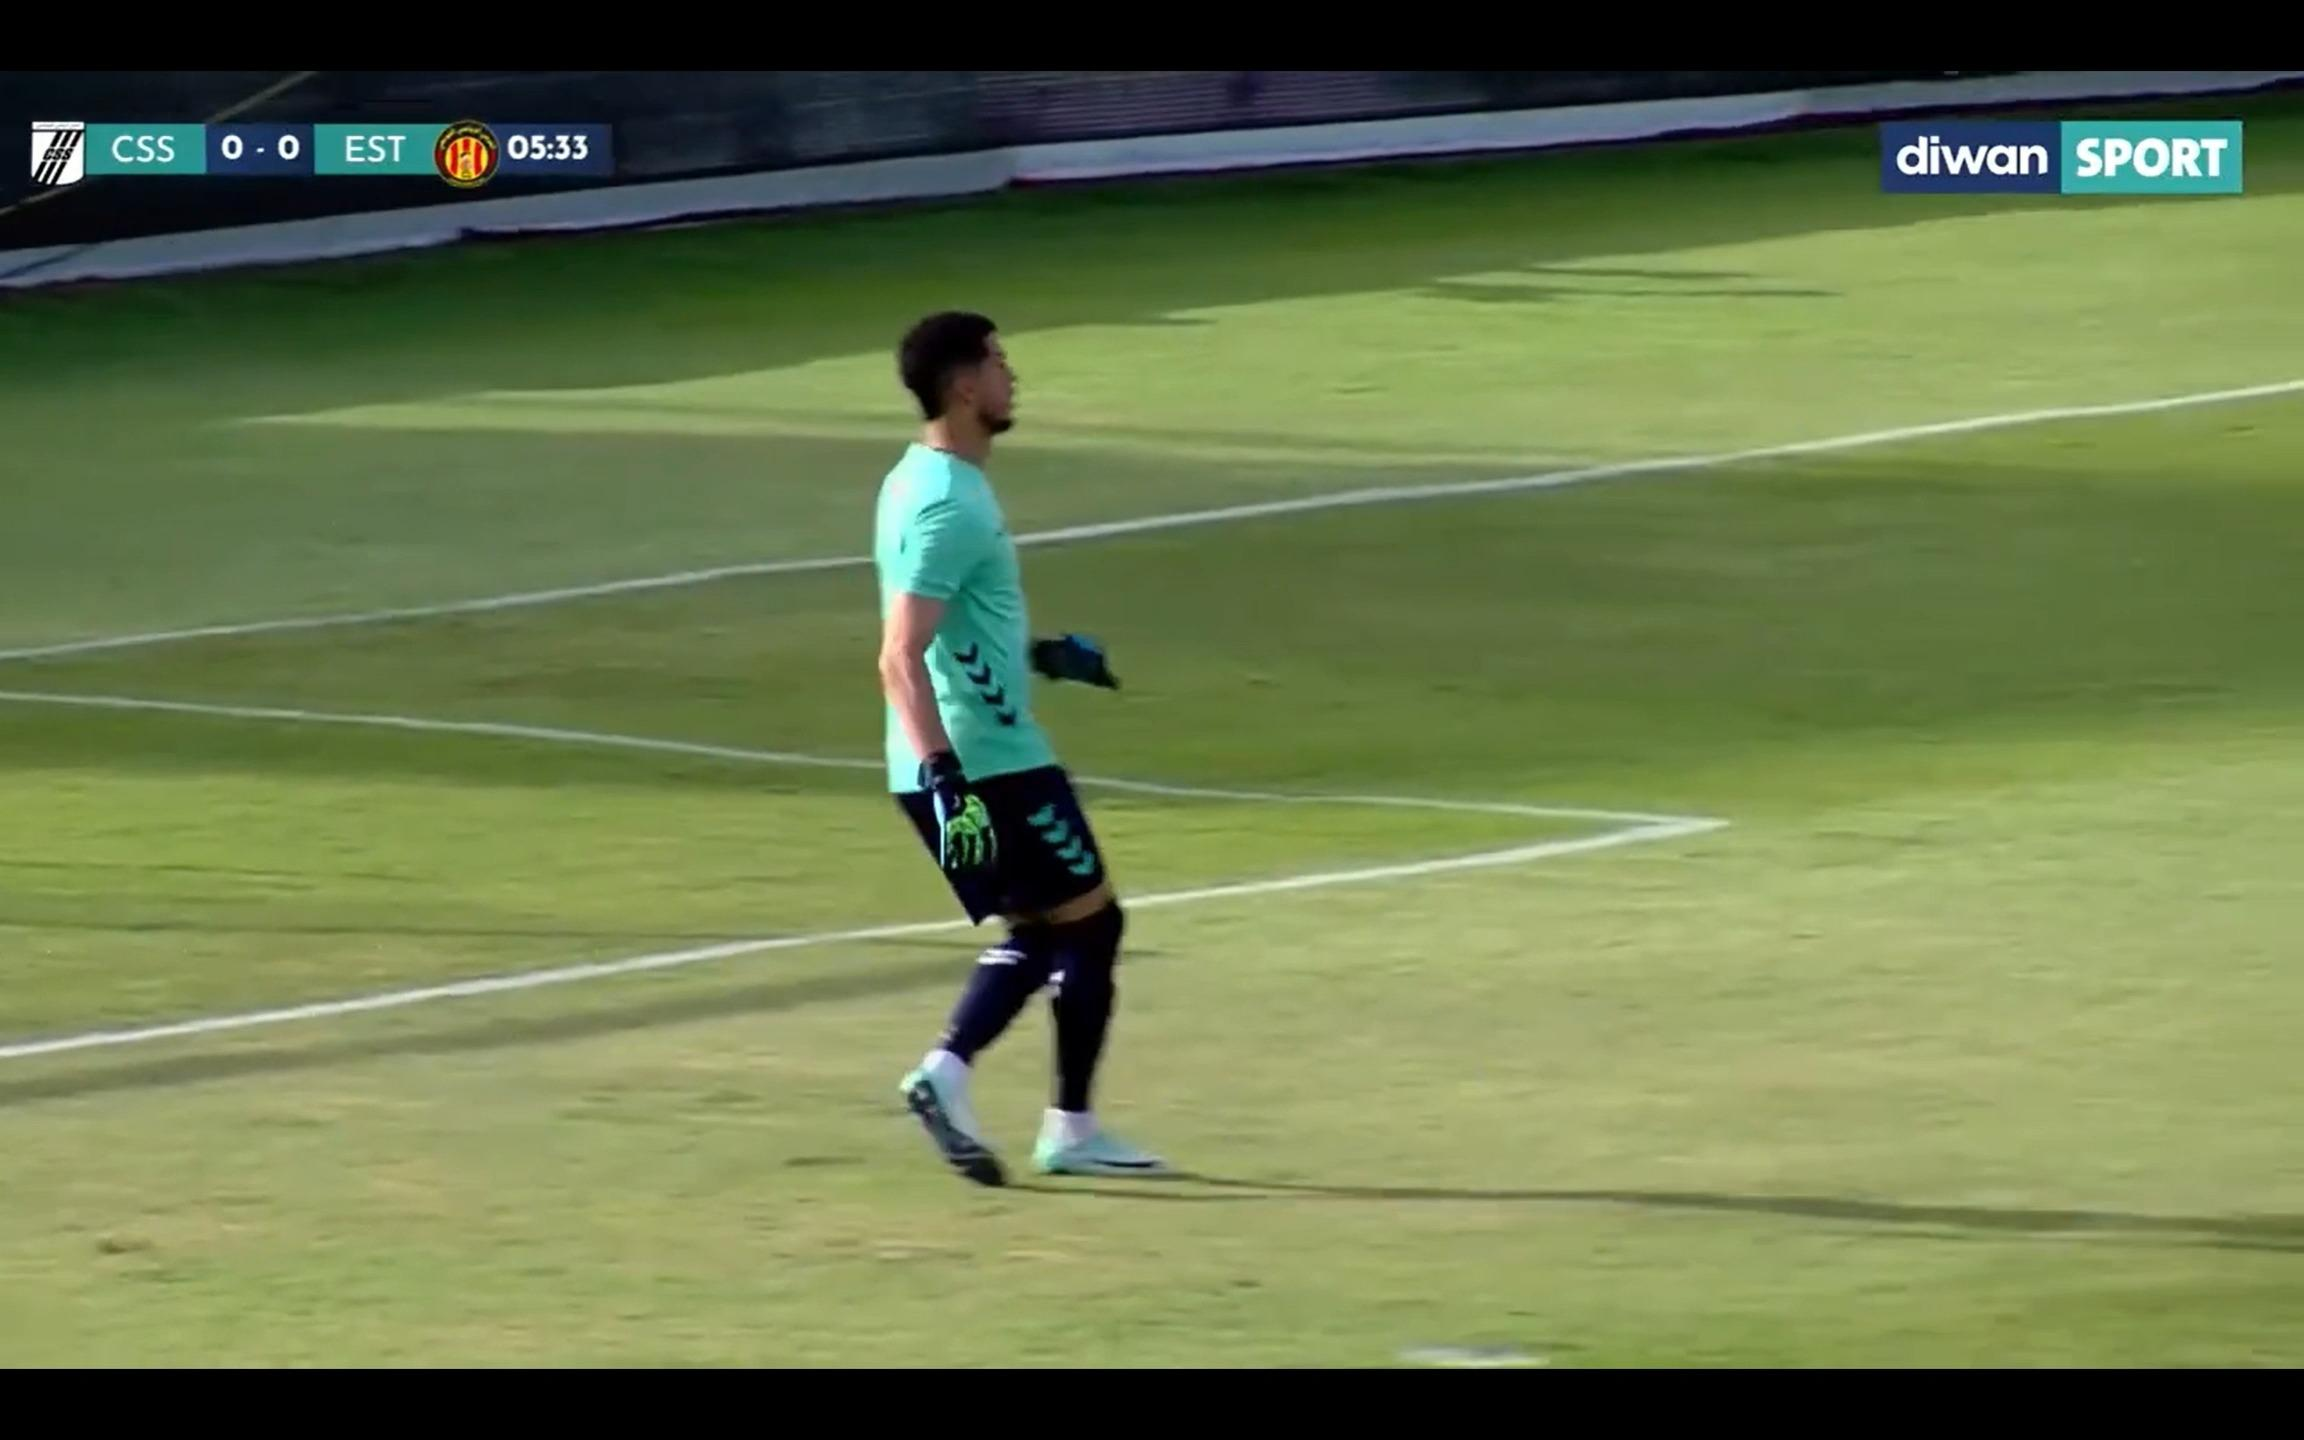goalkeeper: (740, 260, 1264, 1224)
